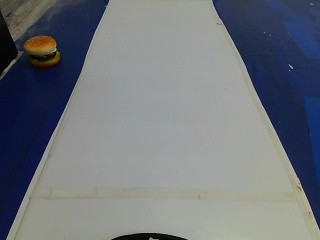burger: (19, 32, 64, 73)
